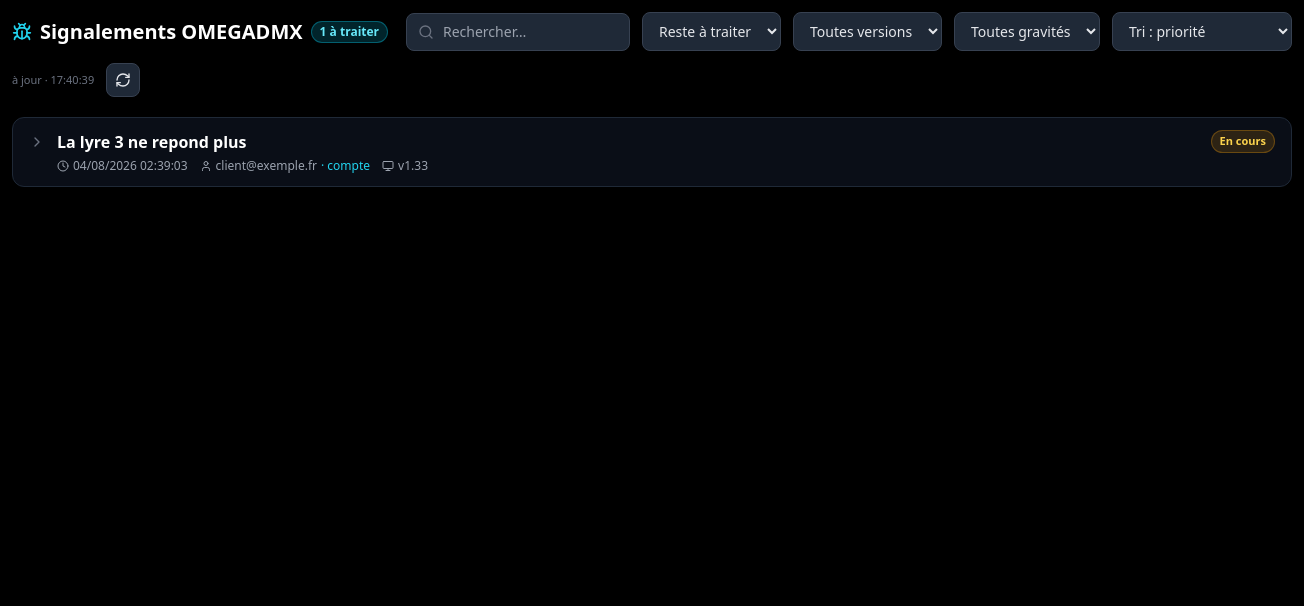
Test: AdminBugReports — la conversation se met à jour sans rafraîchir la page › ★ fait apparaître le message du client SEUL, sans rouvrir le fil ni recharger la page
Later steps or results of the test are not shown.
Click the button that starts with "La lyre 3 ne repond plus" at (152, 142), box 13,118 -> 1291,186
Wait 15000 ms
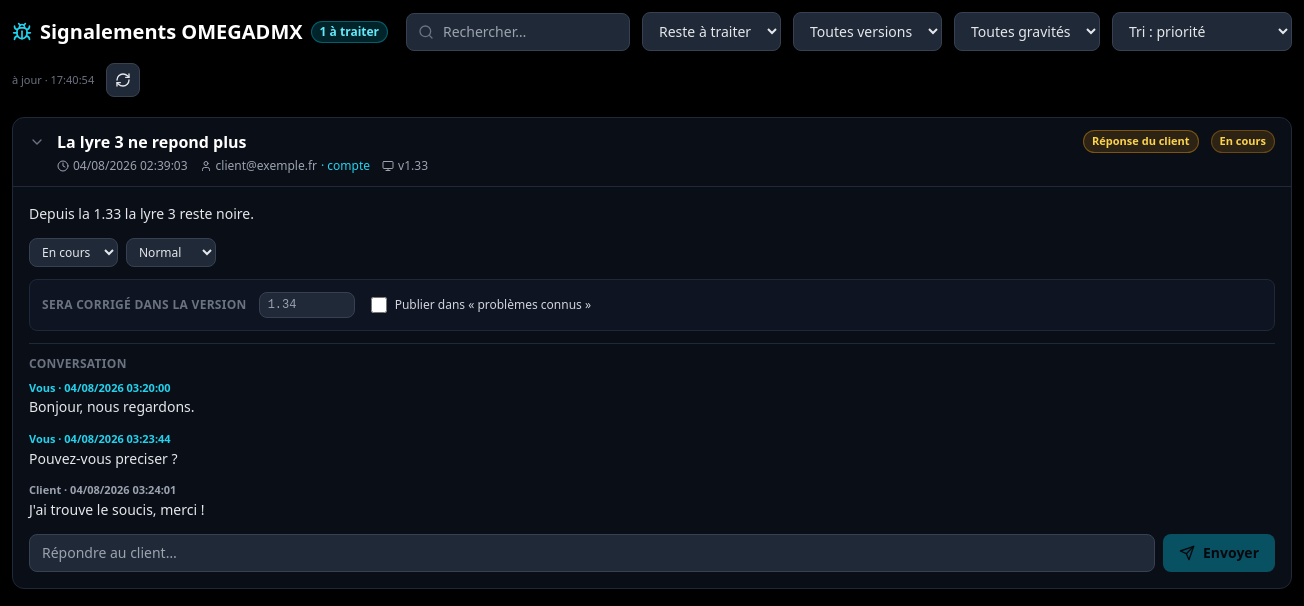
Check: the text "J'ai trouve le soucis, merci !" is shown, box 29,500 -> 204,519
